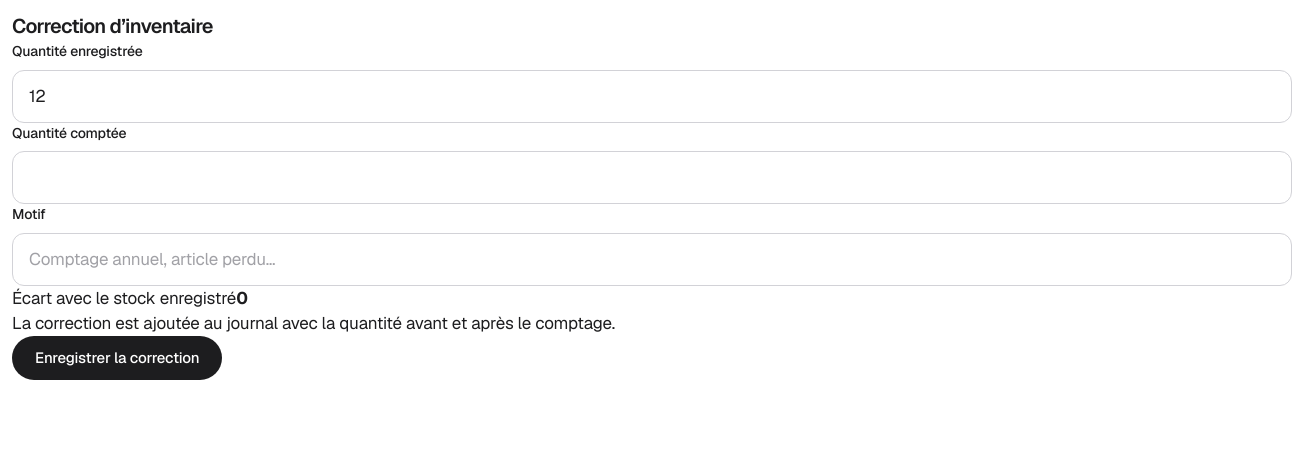
Test: FormulaireInventaire › explique un compte inférieur au mis de côté
In the number field labelled "Quantité comptée": (652, 178) [12,151,1292,204], type "1"
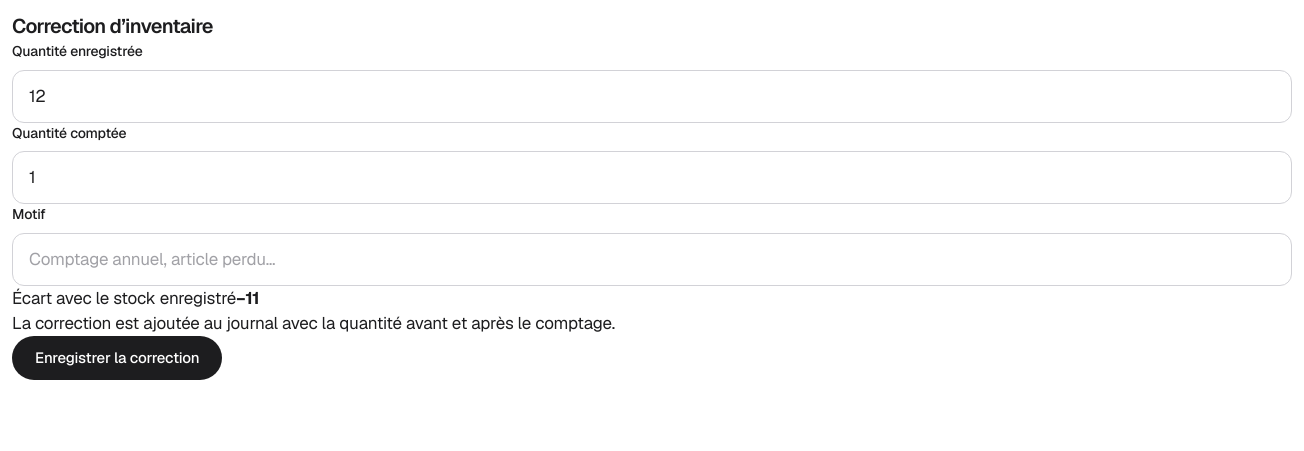
In the field labelled "Motif": (652, 259) [12,233,1292,286], type "Comptage"
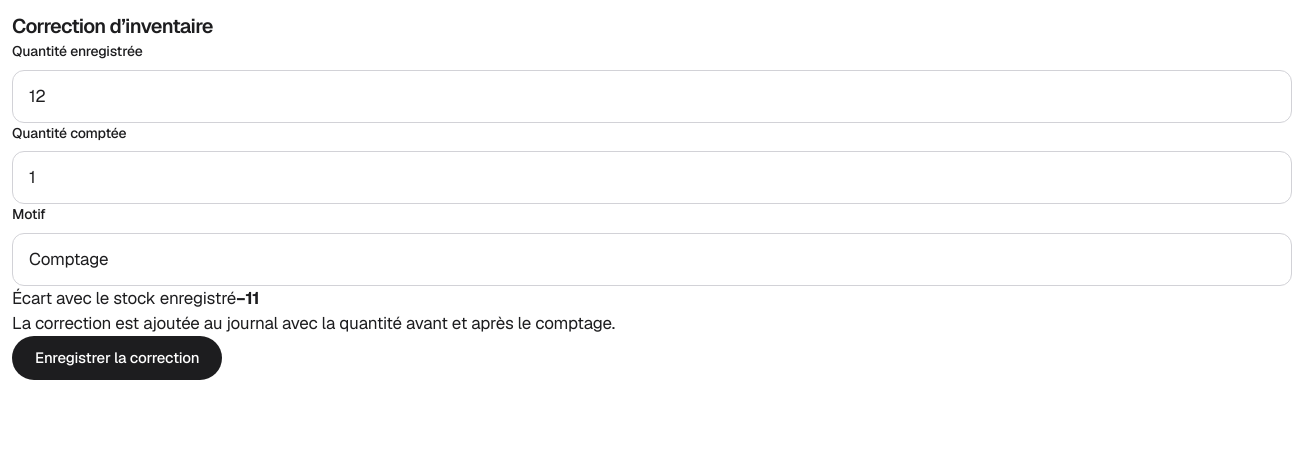
Click the button "Enregistrer la correction": (117, 358) [12,336,222,380]
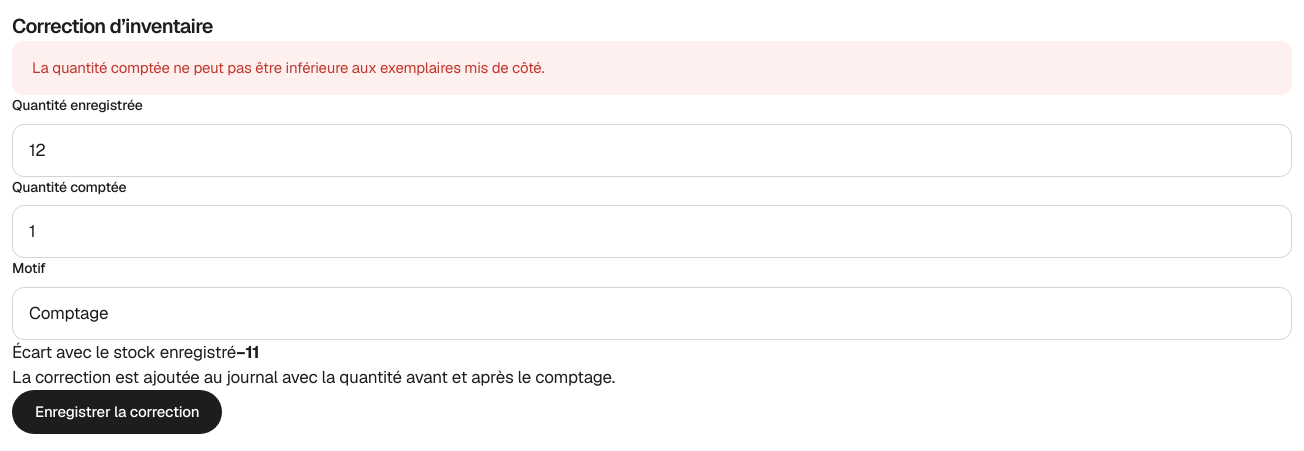
Now the message reads "La quantité comptée ne peut pas être inférieure aux exemplaires mis de côté.", box [32,58,544,77]
